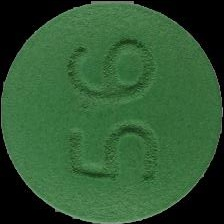60429-097: (0, 0, 224, 224)
